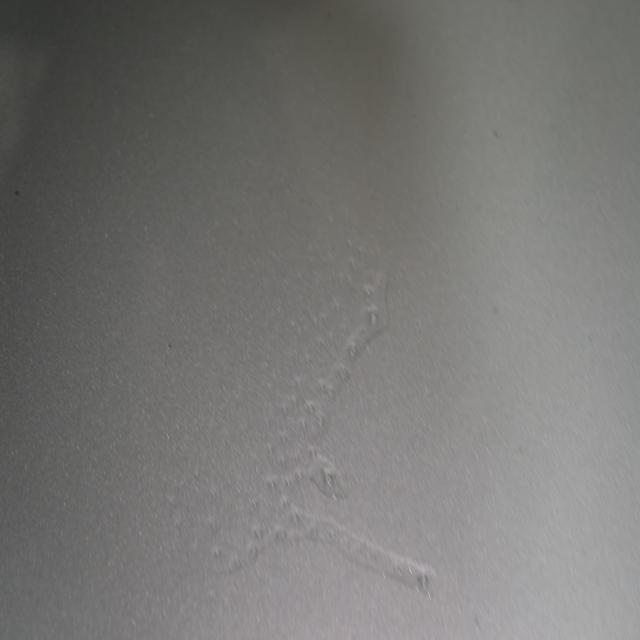dirt: (491, 123, 501, 146), (12, 185, 24, 199)
runs: (219, 204, 440, 599)
